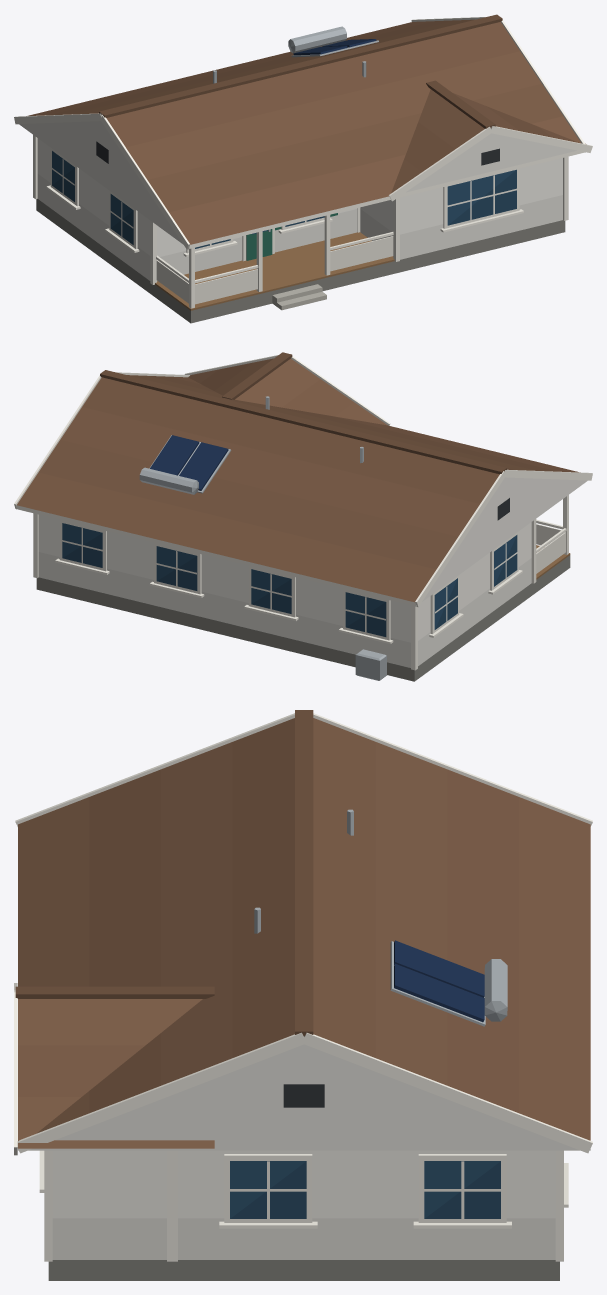
File: house_14x10.glb
3 views of the same model, one above another, from view 1: azimuth 30°, elevation 25°; view 2: azimuth 150°, elevation 25°; view 3: azimuth 270°, elevation 25° (orthographic). The views are drawn at different scales.
Visible parts, largest first — view 1: house; view 2: house; view 3: house.
Part boxes in pixels (left/top/right/bottom): house: left=14, top=14, right=592, bottom=323; house: left=14, top=352, right=592, bottom=681; house: left=14, top=710, right=592, bottom=1280.
Bounding box in the file's own units: 15.11 × 5.63 × 11.32.
